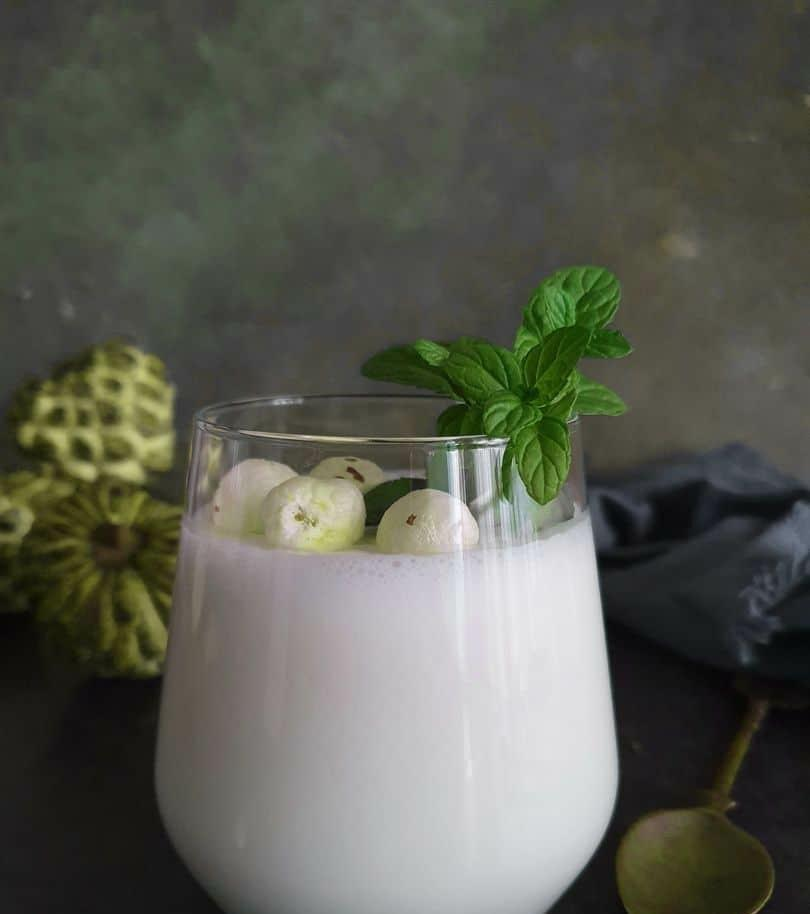Lassi: (157, 468, 620, 914)
